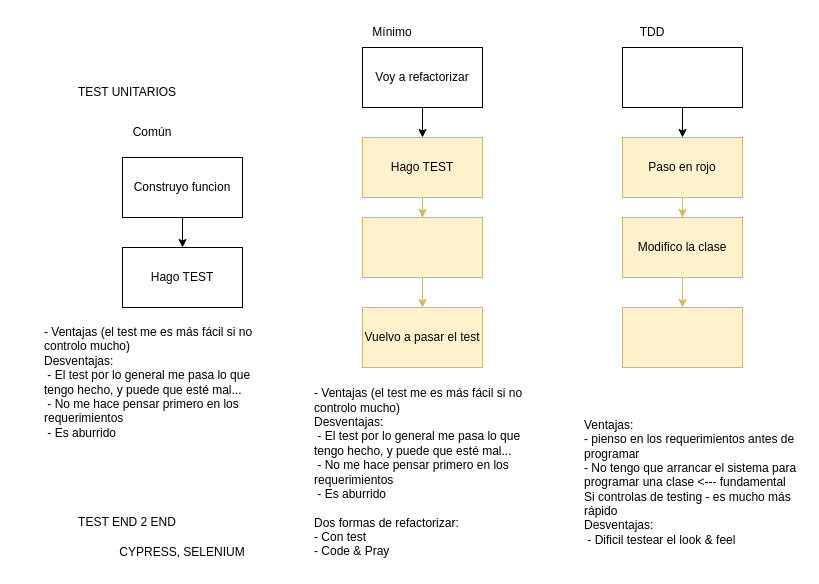
Image size: 819x584. Some labels were removed from this diagram. The centre of each missing label's shape, as x and y in pixels:
"Hago el test" belongs at pixel 682 77.
"Paso en verde" belongs at pixel 682 337.
"Refactorizo" belongs at pixel 422 247.
